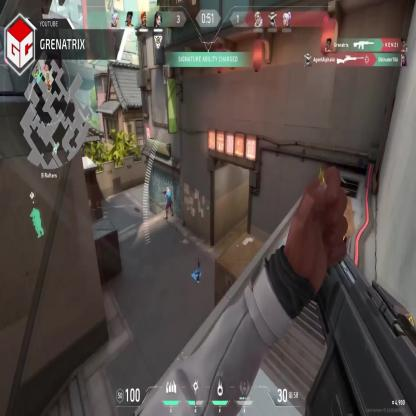enemy: (164, 186, 173, 221)
enemy_head: (166, 186, 169, 192)
